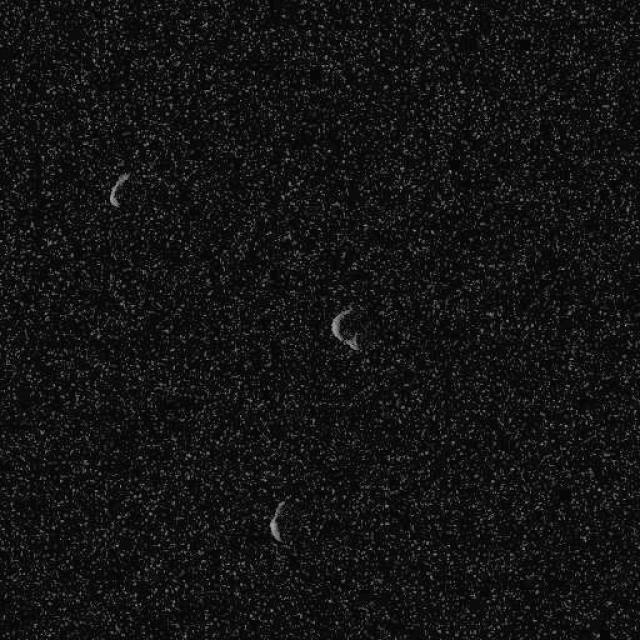D2: (328, 305, 364, 353), (108, 170, 132, 209), (268, 498, 288, 544)
